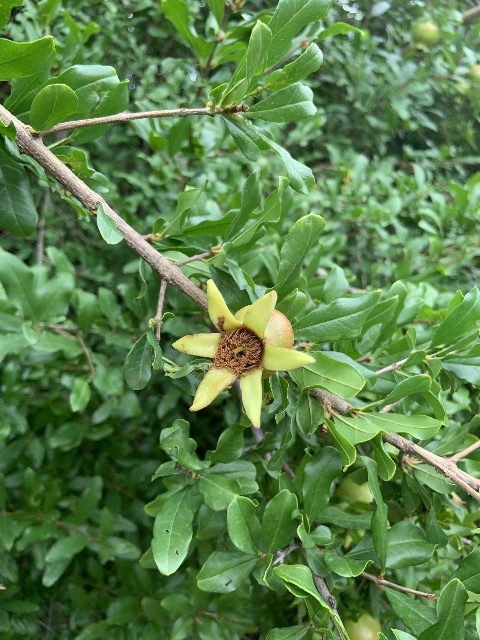early-fruit: (172, 278, 315, 427)
mid-growth: (406, 20, 439, 57)
